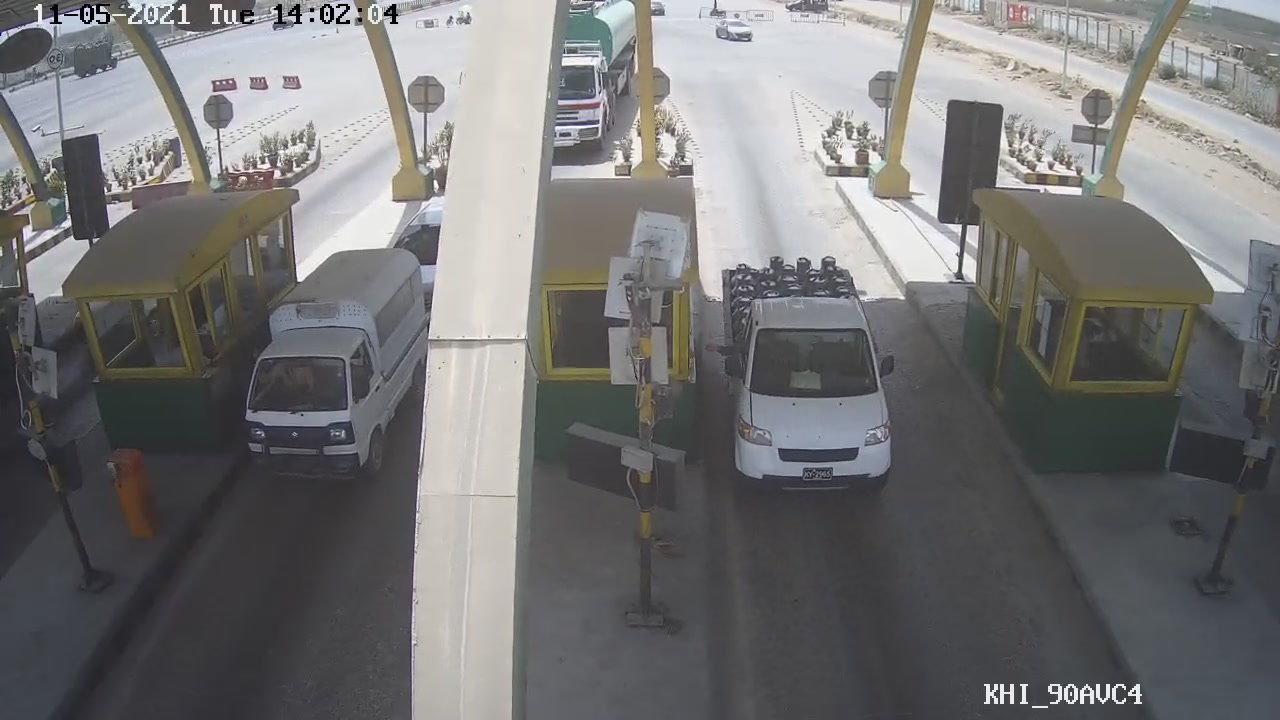F2: (716, 235, 905, 506)
